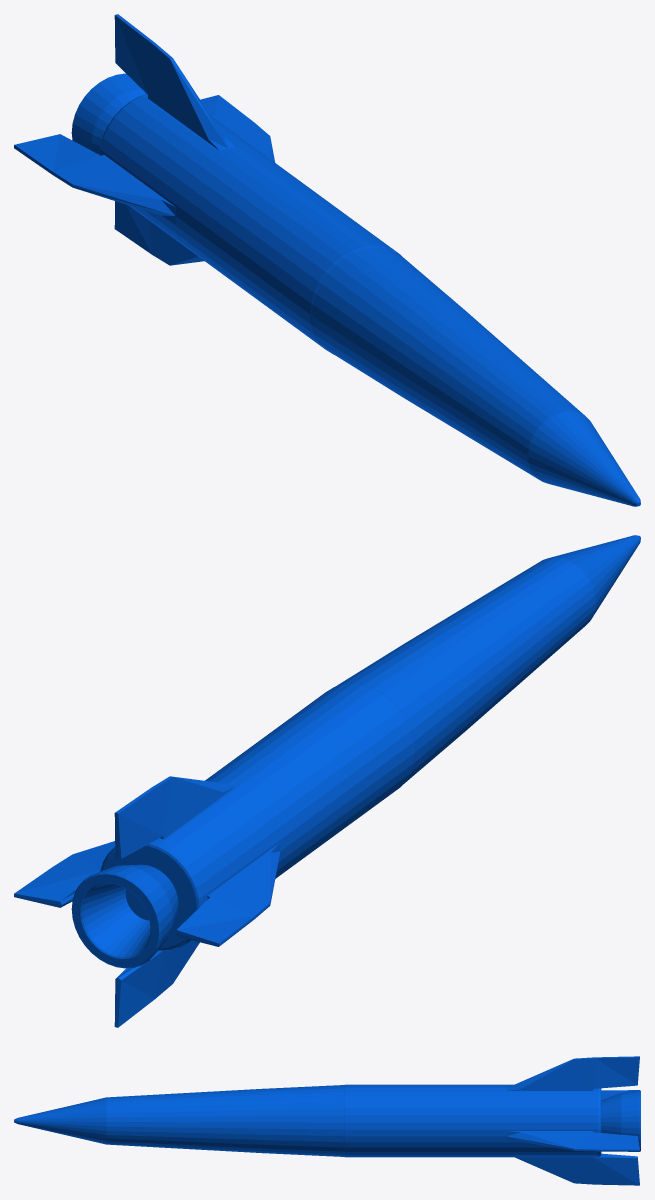
Rendered from TBM_Blue.glb.
3 renders of one model, top to bottom at view 1: azimuth 30°, elevation 25°; view 2: azimuth 150°, elevation 25°; view 3: azimuth 270°, elevation 25°, orthographic. The views are drawn at different scales.
Visible parts, largest first — view 1: Cylinder00; view 2: Cylinder00; view 3: Cylinder00.
Part boxes in pixels (x1,y1,x2,y2): Cylinder00: [14, 14, 640, 506]; Cylinder00: [14, 535, 640, 1027]; Cylinder00: [14, 1056, 640, 1185].
Bounding box in the file's own units: 0.3549 × 0.3549 × 1.57.
